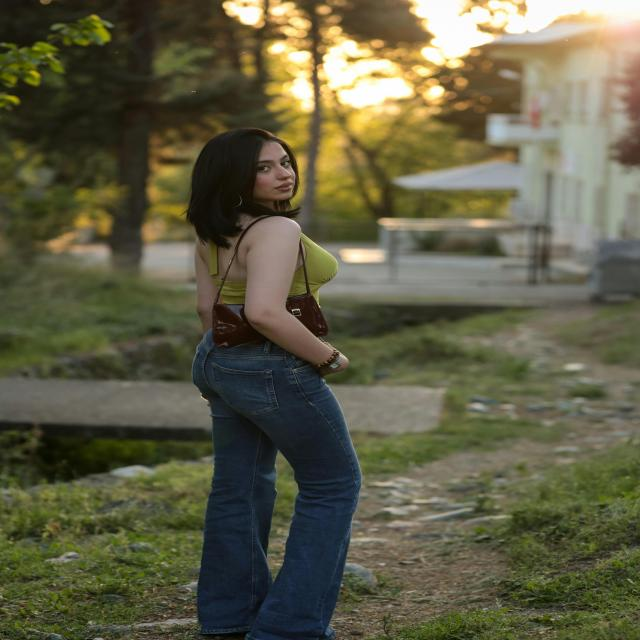bolsa: (206, 215, 330, 346)
relogio: (321, 356, 346, 374)
